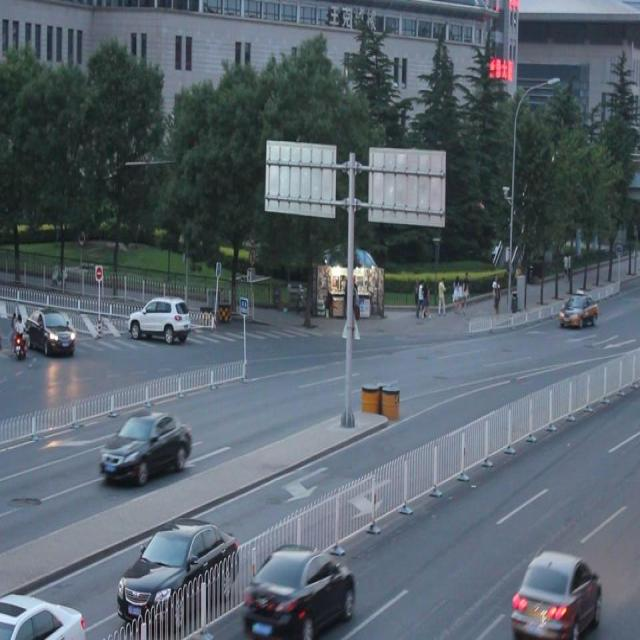car: (116, 520, 238, 622), (244, 540, 354, 640), (508, 550, 600, 632), (100, 406, 193, 484), (0, 585, 86, 640), (128, 292, 189, 344), (27, 304, 76, 356), (558, 289, 597, 324)
